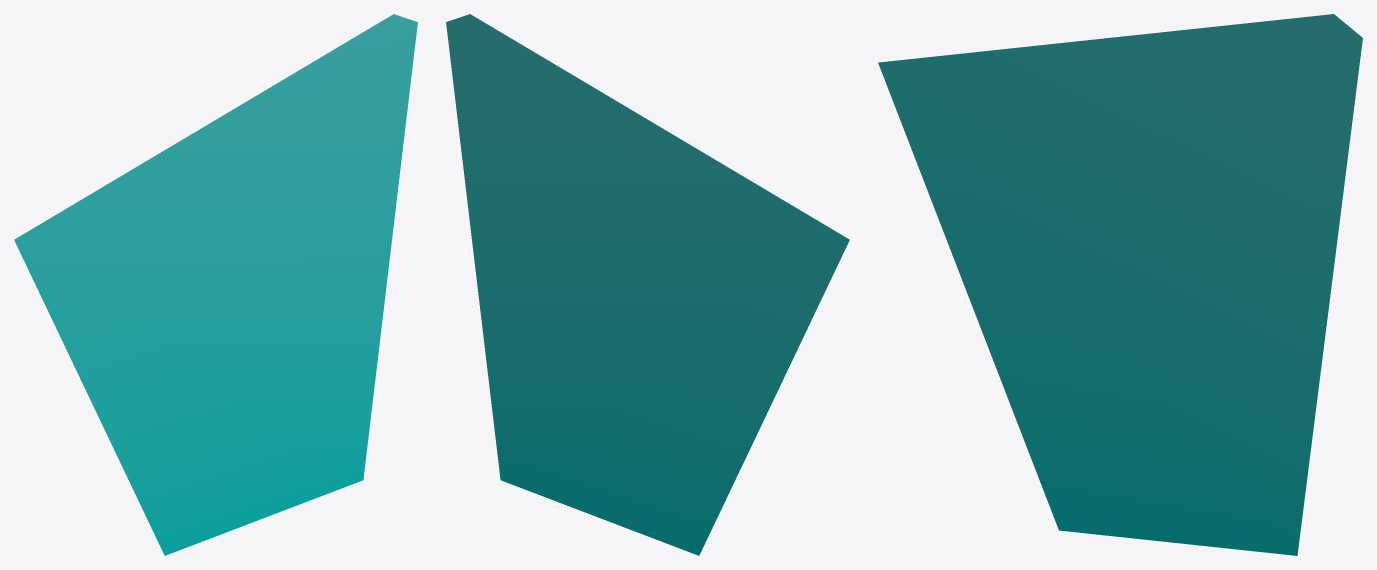
Rendered from Sea_Thrift_vkbgaihha_Mid_vkbgaihha_VarH_LOD3.fbx.
3 views of the same model, side by side, from view 1: azimuth 30°, elevation 25°; view 2: azimuth 150°, elevation 25°; view 3: azimuth 330°, elevation 25° (orthographic). The views are drawn at different scales.
Visible parts, largest first — view 1: _y9fv_VarH_LOD4; view 2: _y9fv_VarH_LOD4; view 3: _y9fv_VarH_LOD4.
Part boxes in pixels (x1=…): _y9fv_VarH_LOD4: x1=14, y1=14, x2=417, y2=555; _y9fv_VarH_LOD4: x1=446, y1=14, x2=849, y2=555; _y9fv_VarH_LOD4: x1=878, y1=14, x2=1362, y2=555.
Size of the model in its own units: 11.64 by 13.39 by 0.
